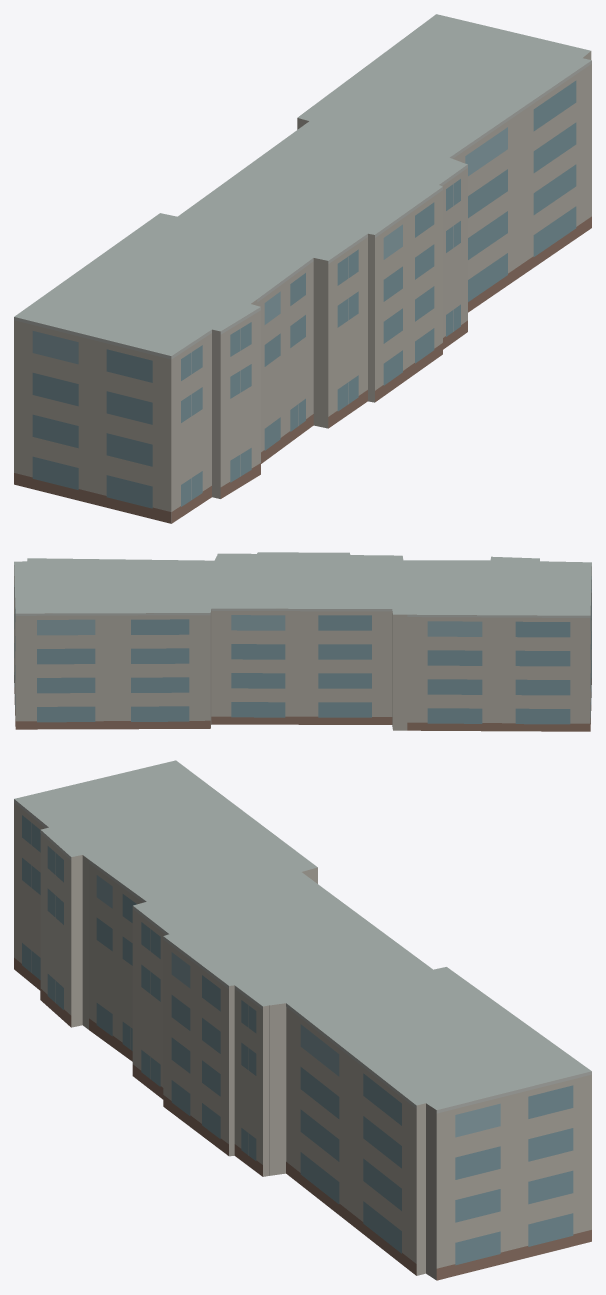
File: survey-upis-32468867.glb
3 views of the same model, one above another, from view 1: azimuth 30°, elevation 25°; view 2: azimuth 150°, elevation 25°; view 3: azimuth 270°, elevation 25° (orthographic). The views are drawn at different scales.
Visible parts, largest first — view 1: survey-upis-32468867.tmp; view 2: survey-upis-32468867.tmp; view 3: survey-upis-32468867.tmp.
Part boxes in pixels (x1,y1,x2,y2): survey-upis-32468867.tmp: (14,14,591,523); survey-upis-32468867.tmp: (14,552,591,731); survey-upis-32468867.tmp: (14,760,591,1280).
Bounding box in the file's own units: 53.73 × 12.2 × 37.5.
